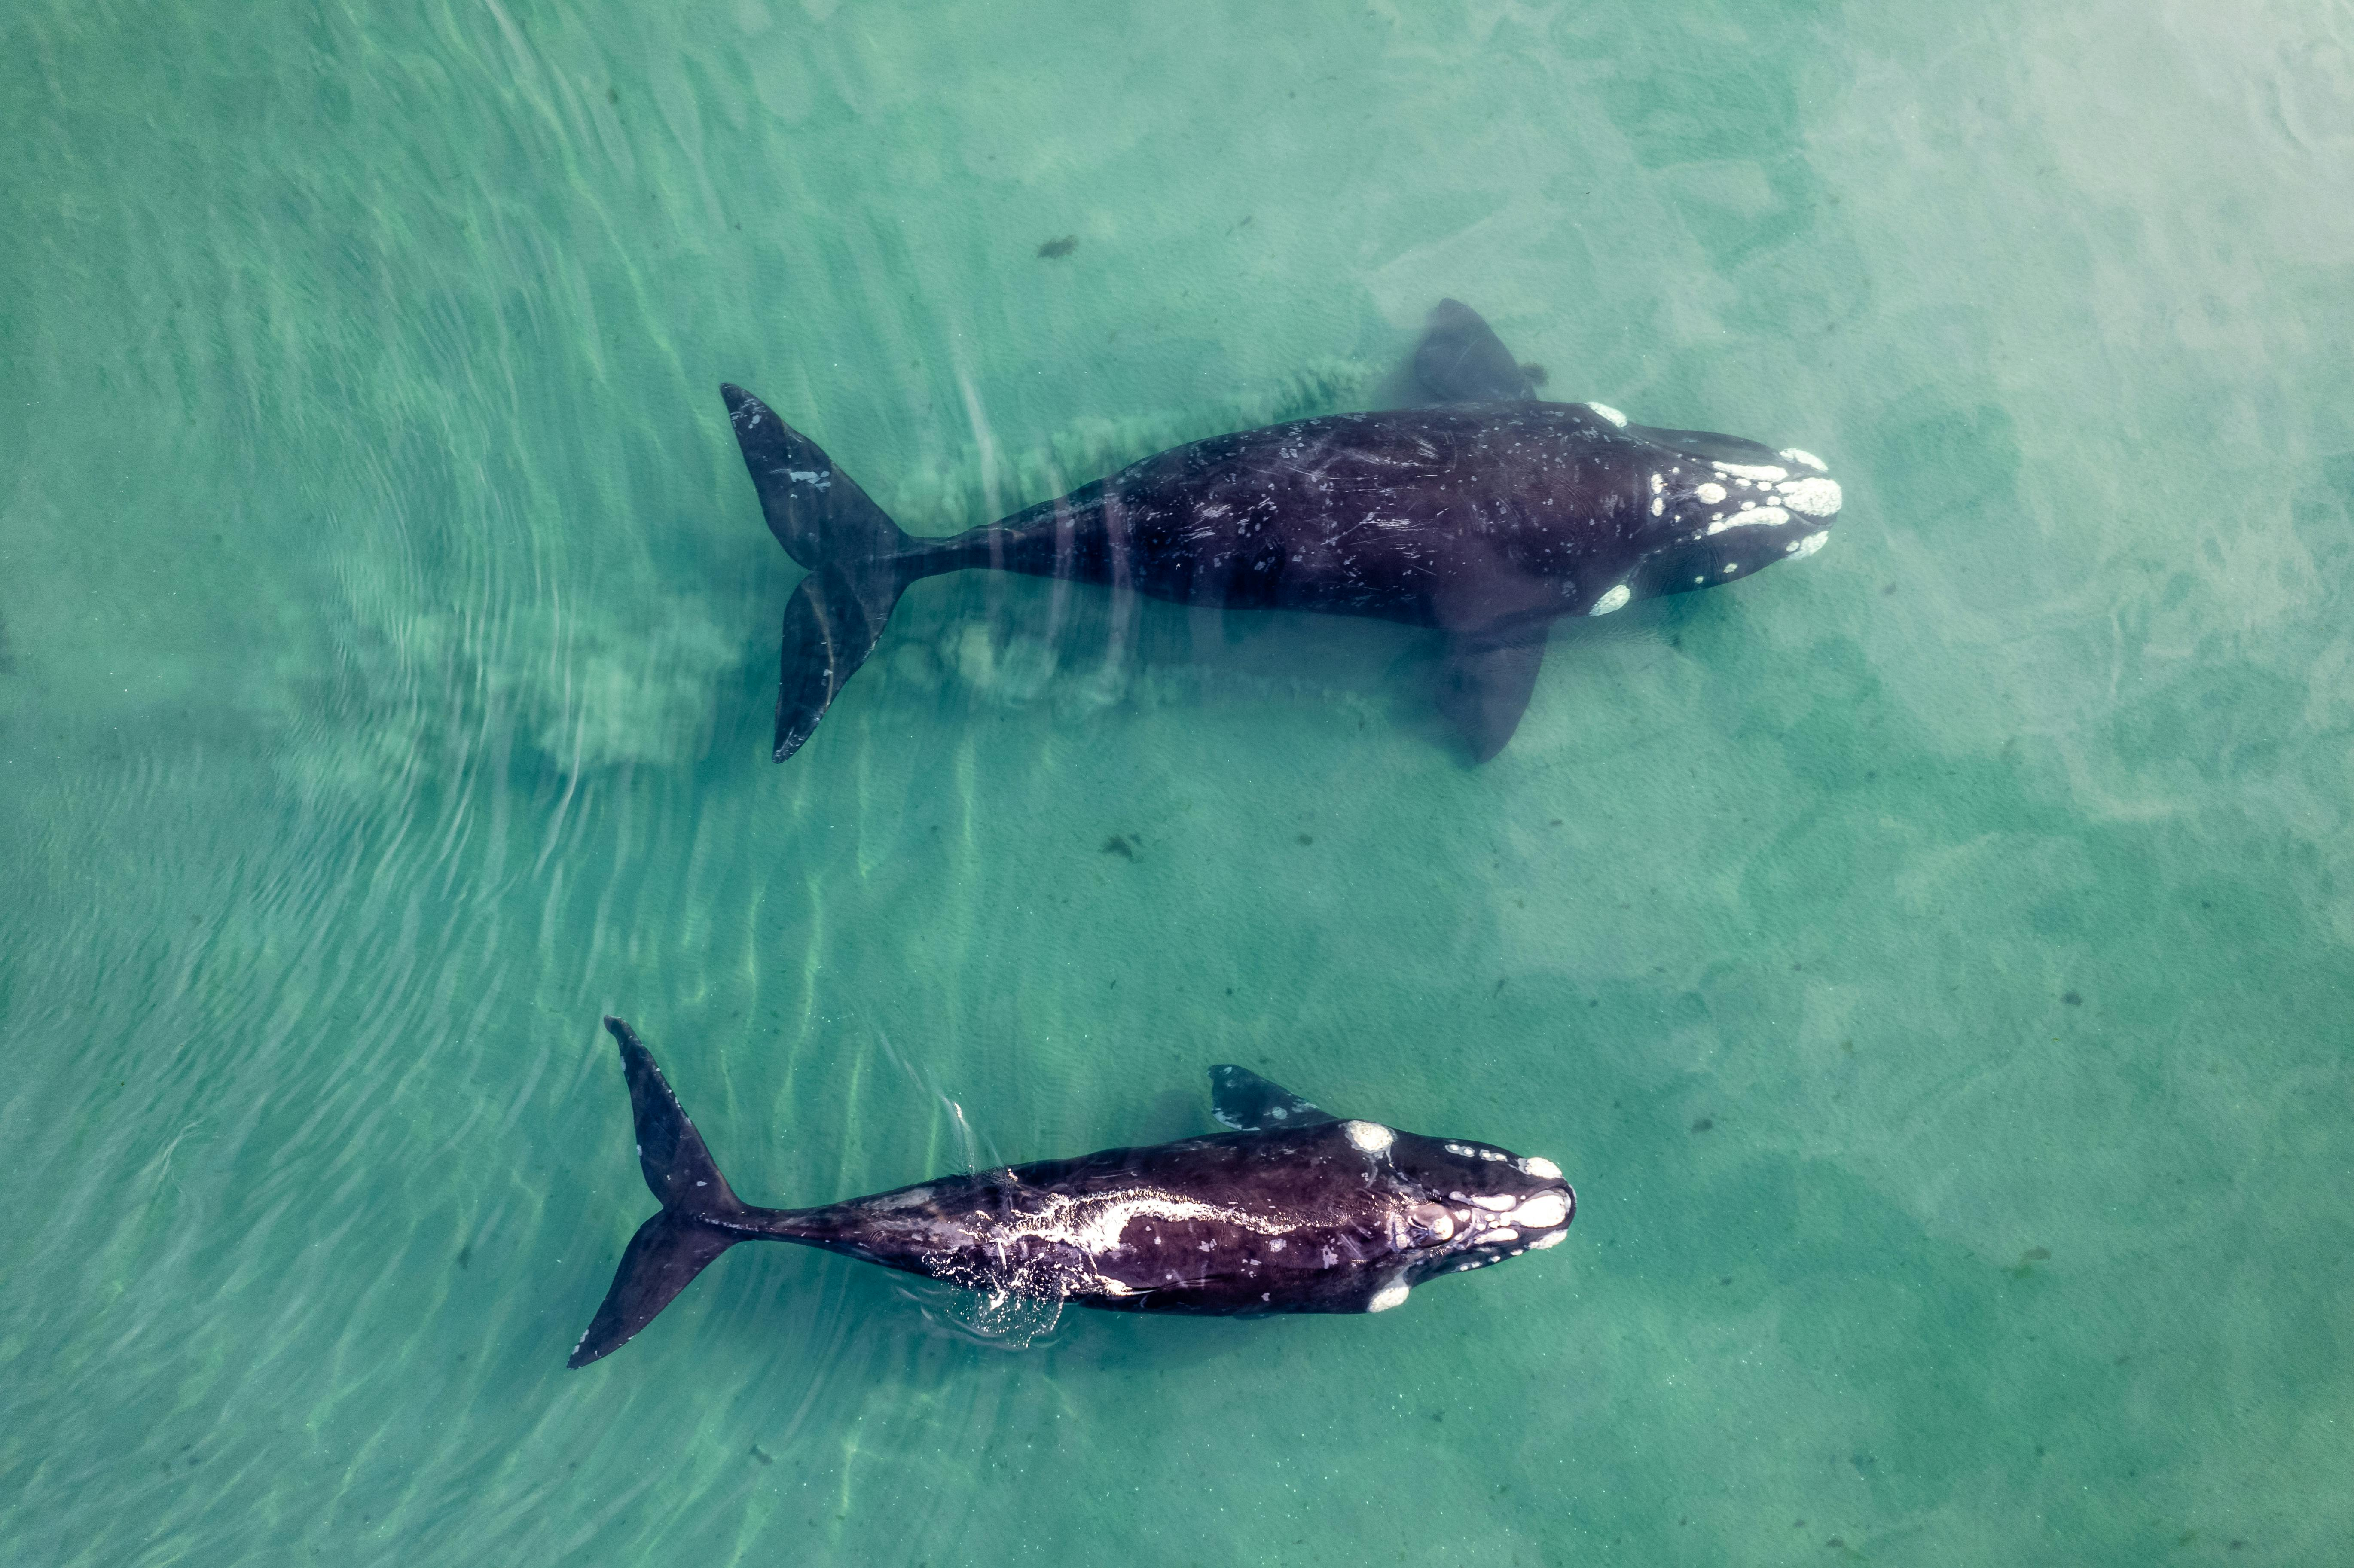whale: (712, 290, 1843, 775), (558, 1012, 1579, 1389)
